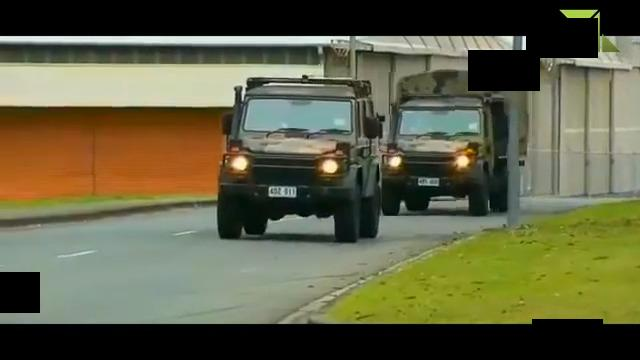MIL_HMMWV: (216, 76, 385, 242), (379, 70, 532, 216)
